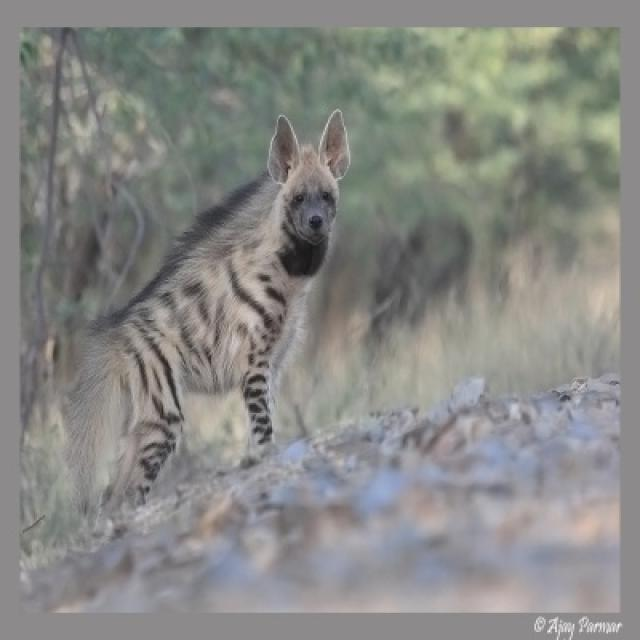hyena: (83, 110, 349, 490)
